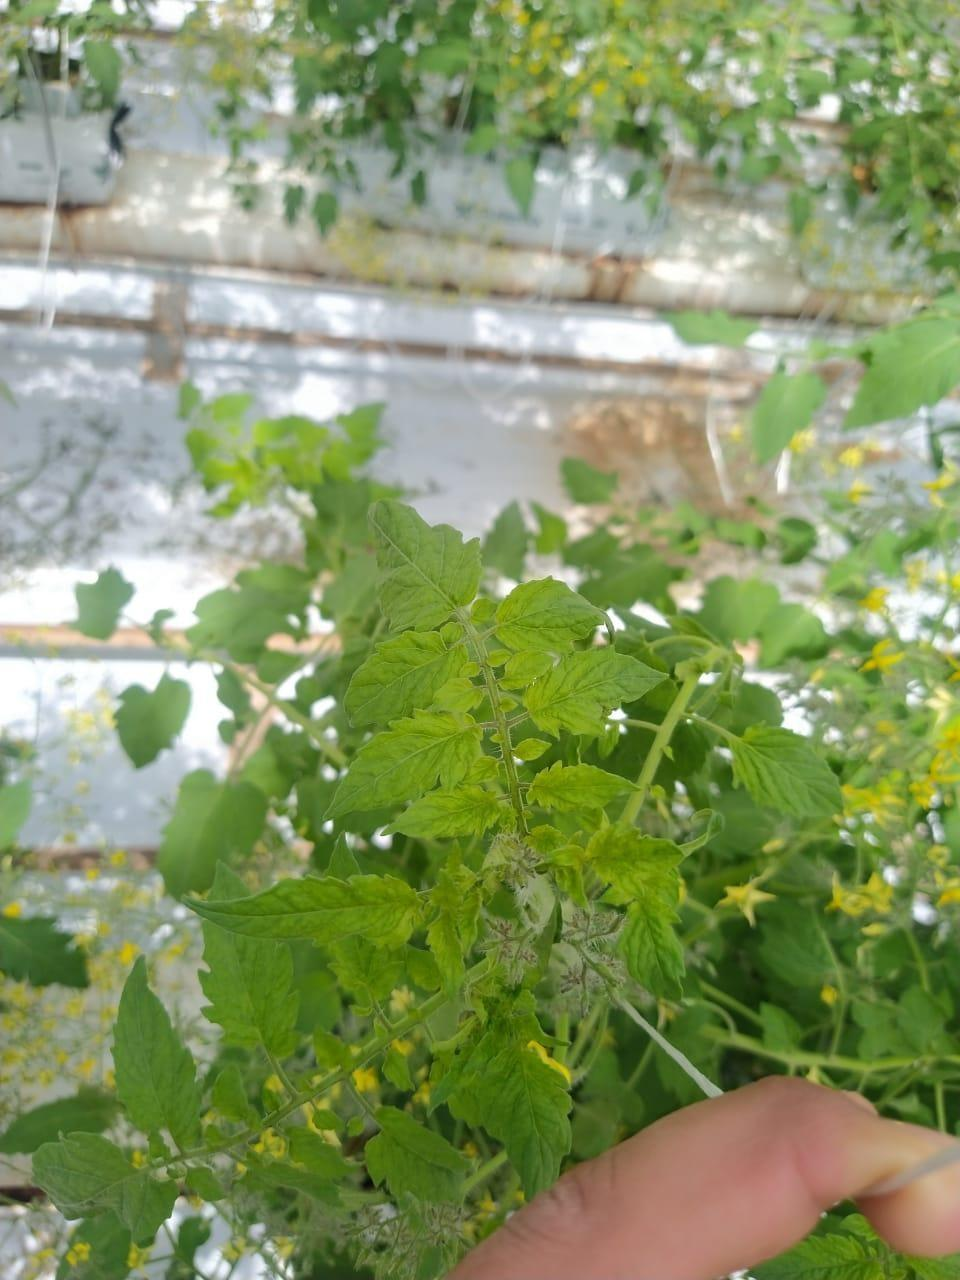Rugose leaf: (188, 875, 423, 947), (328, 710, 482, 817), (367, 500, 482, 630), (200, 922, 297, 1057), (525, 650, 665, 735), (495, 578, 605, 652), (585, 822, 683, 902), (620, 897, 685, 1000), (390, 785, 502, 840), (527, 763, 635, 812)
Rugose stem: (301, 995, 443, 1100), (485, 667, 522, 822)
